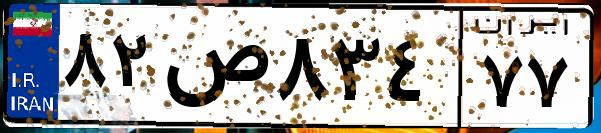2: (110, 28, 158, 98)
3: (330, 28, 385, 110)
4: (385, 28, 445, 110)
7: (475, 38, 525, 113), (525, 38, 570, 115)
8: (270, 28, 330, 110), (57, 26, 110, 100)
ص: (158, 20, 270, 120)
